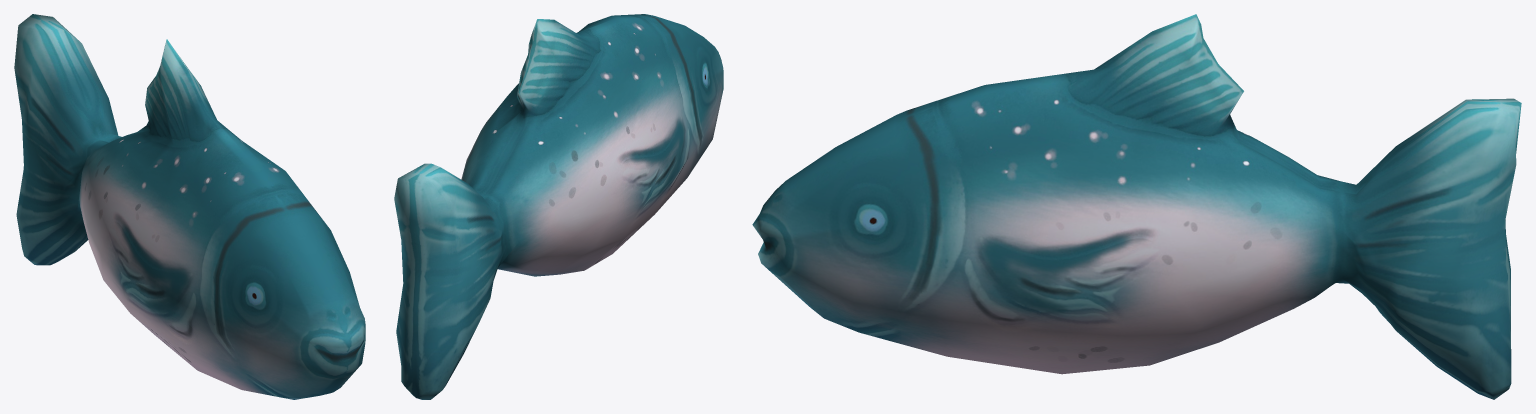
Rendered from fish.glb.
3 views of the same model, side by side, from view 1: azimuth 30°, elevation 25°; view 2: azimuth 150°, elevation 25°; view 3: azimuth 270°, elevation 25° (orthographic). The views are drawn at different scales.
Visible parts, largest first — view 1: g; view 2: g; view 3: g.
Part boxes in pixels (bbox=[...]): g: bbox=[14, 14, 365, 399]; g: bbox=[394, 14, 723, 399]; g: bbox=[752, 14, 1521, 399].
Size of the model in its own units: 0.5835 by 1.1 by 2.
Materials: 1 (1 with a texture image).
